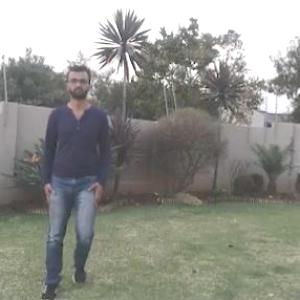follow: (31, 43, 118, 299)
